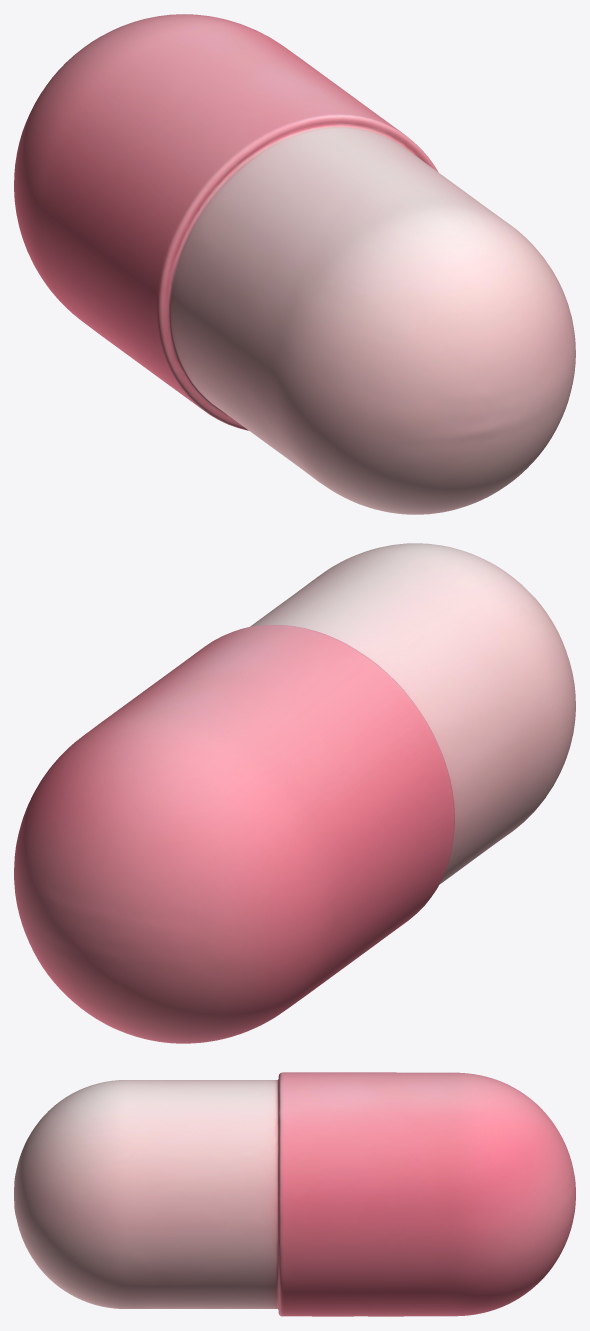
The model's file is pink_capsule.glb.
The picture shows the model from 3 angles, top to bottom: view 1: azimuth 30°, elevation 25°; view 2: azimuth 150°, elevation 25°; view 3: azimuth 270°, elevation 25°; orthographic projection. The views are drawn at different scales.
Parts seen in each view (by area): view 1: tripo_node_35b2e330; view 2: tripo_node_35b2e330; view 3: tripo_node_35b2e330.
Boxes of the visible parts, x1=… form: tripo_node_35b2e330: x1=14, y1=14, x2=575, y2=514; tripo_node_35b2e330: x1=14, y1=543, x2=575, y2=1043; tripo_node_35b2e330: x1=14, y1=1072, x2=575, y2=1316.
Size of the model in its own units: 43.46 by 43.46 by 100.
Materials: 1 (1 with a texture image).
